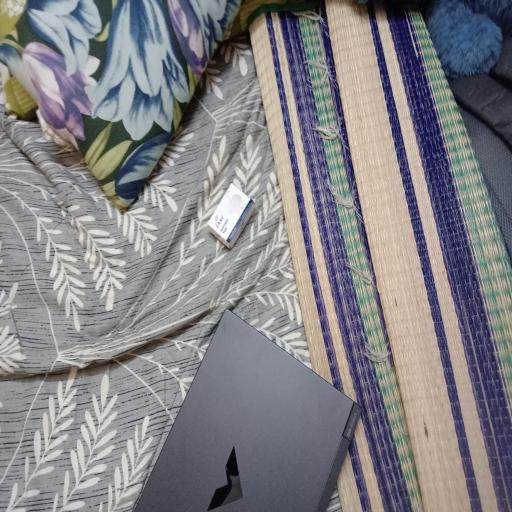Dove`1: (201, 181, 262, 253)
